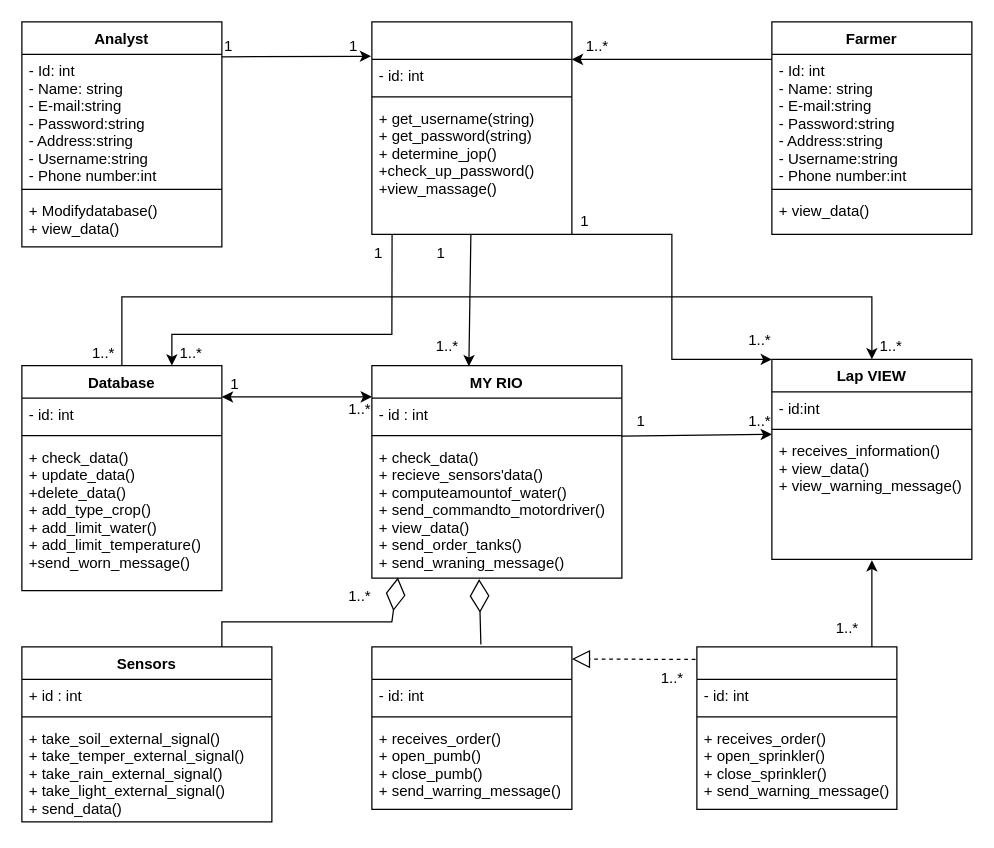
Some shapes in this 994 by 848 pixel diagram are drawn without their labels. The box of each missing label's shape, as (x1, y1, x2, y2) in pixels:
Login: (371, 21, 572, 234)
Motors driver: (371, 646, 572, 809)
pump: (696, 646, 897, 809)
